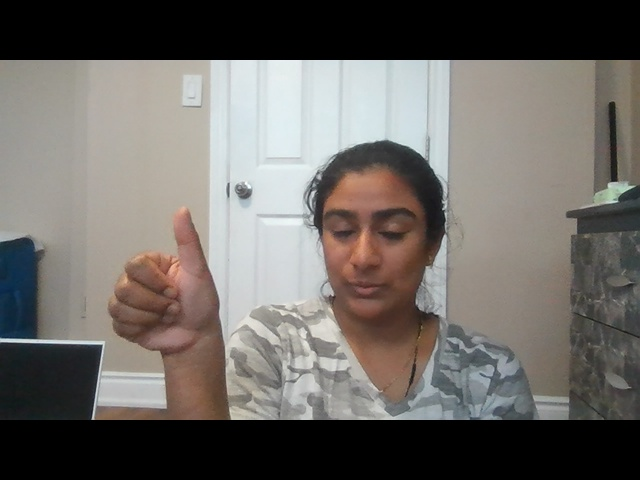yes: (108, 205, 225, 351)
